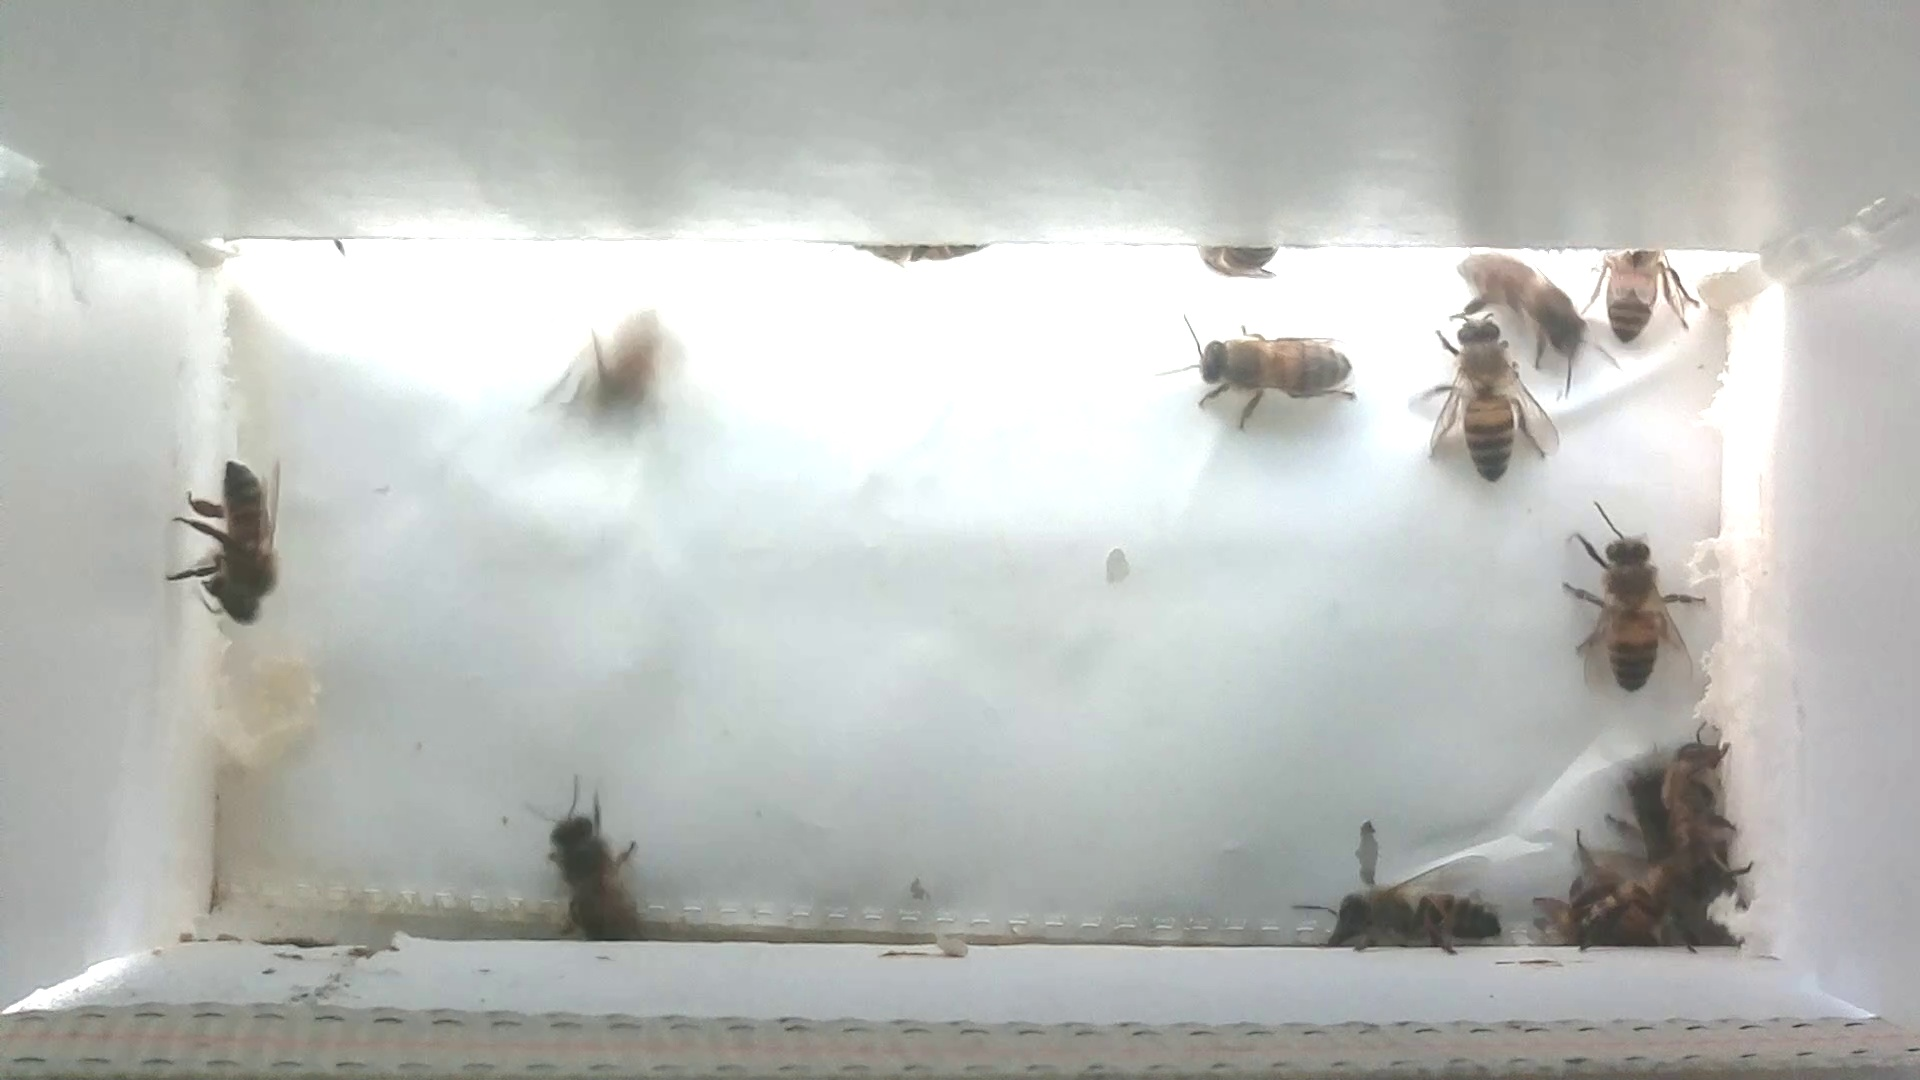bee: (1559, 493, 1709, 703), (512, 773, 665, 949), (1280, 855, 1519, 967), (529, 298, 691, 450), (171, 444, 295, 634), (1420, 314, 1553, 489), (1159, 314, 1369, 425), (1453, 249, 1601, 380), (1654, 731, 1753, 909), (1576, 237, 1708, 355), (1545, 840, 1648, 953), (825, 223, 996, 287), (1195, 237, 1288, 295)
